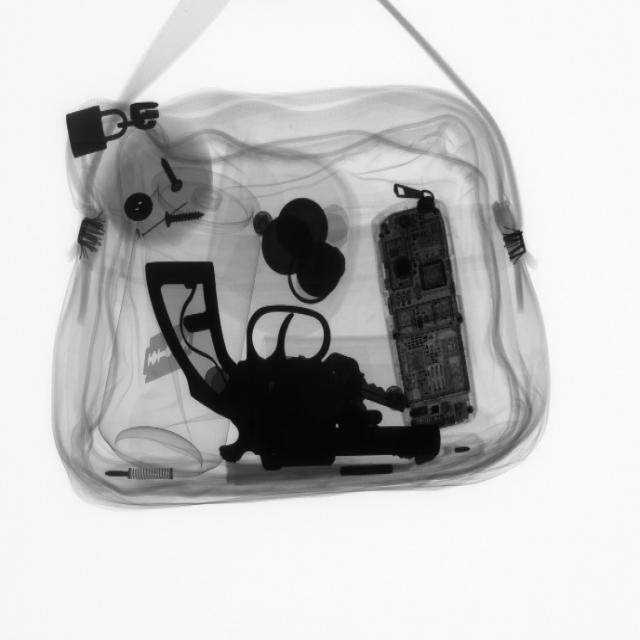BLADE: (139, 325, 196, 385)
GUN: (152, 250, 448, 473)
SCREW: (151, 147, 196, 202), (156, 200, 217, 238)
